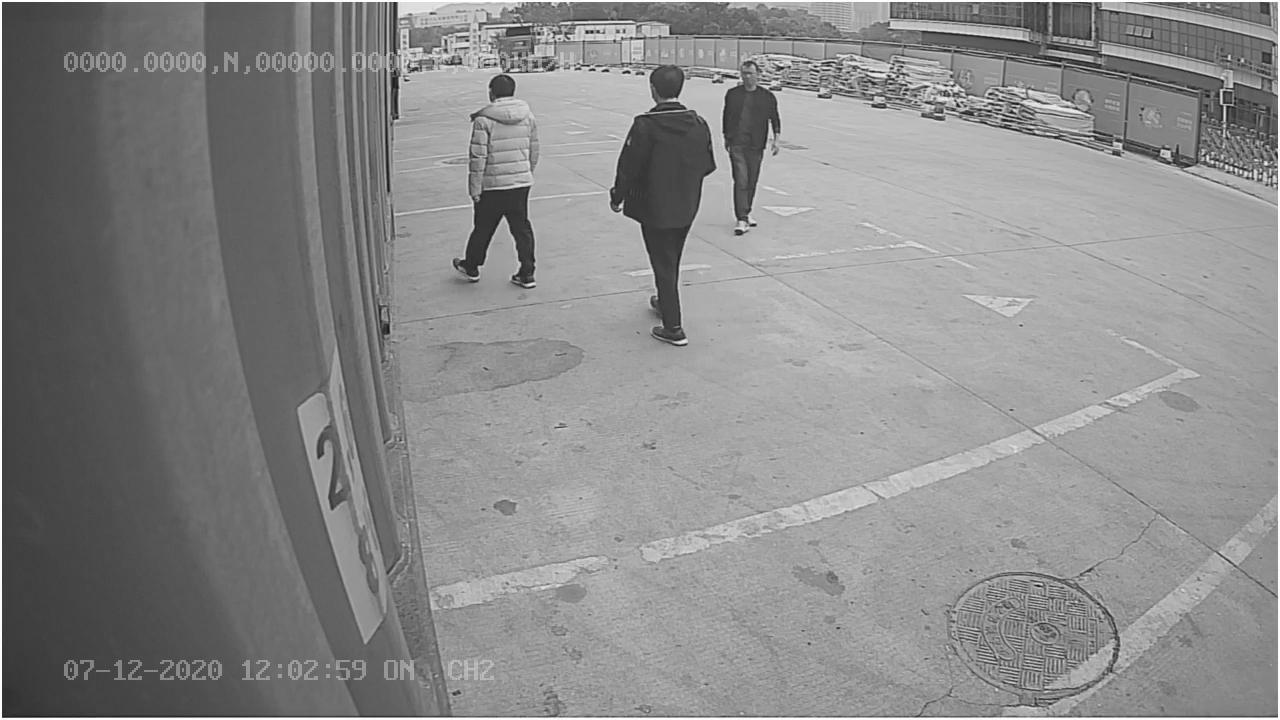person: (607, 54, 715, 351), (452, 70, 550, 292)
